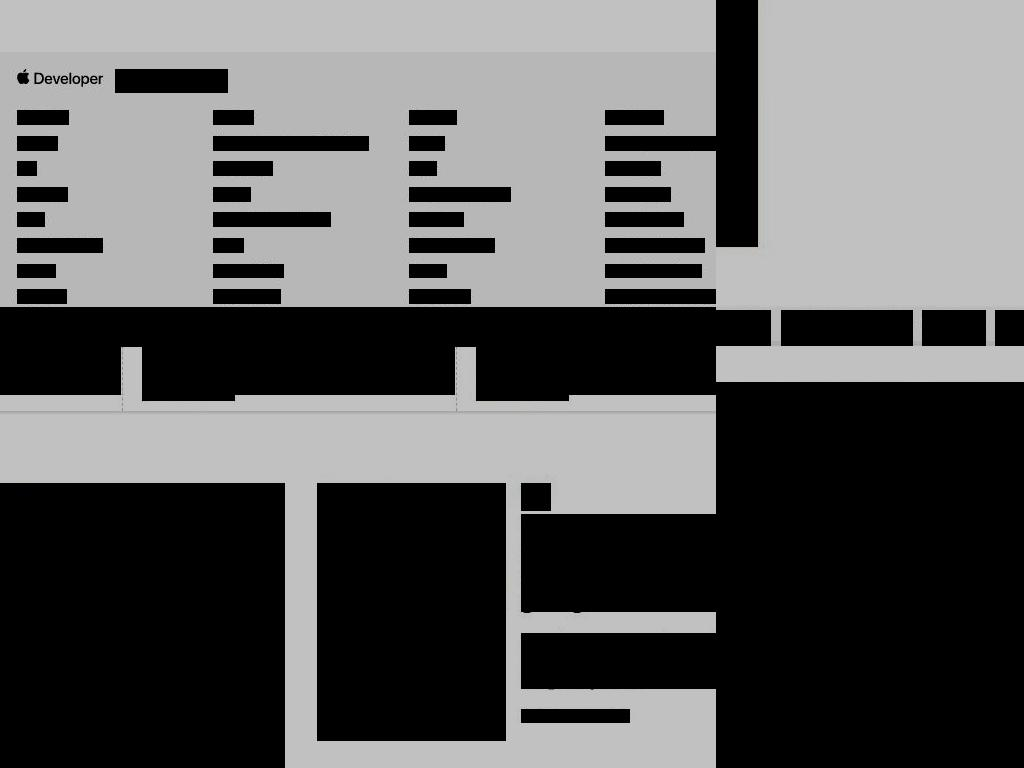button: (716, 382, 1024, 768), (0, 483, 285, 768), (317, 483, 506, 741), (123, 331, 457, 347), (781, 310, 913, 346), (457, 331, 716, 347), (922, 310, 986, 346), (716, 310, 771, 346), (0, 331, 123, 347), (995, 310, 1024, 346), (521, 483, 551, 511)
heading: (716, 711, 1024, 768), (605, 110, 664, 125), (17, 110, 69, 125), (409, 110, 457, 125), (213, 110, 254, 125)
image: (716, 382, 1024, 768), (0, 483, 285, 768), (317, 483, 506, 609), (142, 339, 235, 401), (476, 339, 569, 401)
link: (521, 514, 716, 612), (235, 331, 455, 395), (521, 633, 716, 689), (569, 331, 716, 395), (0, 331, 121, 395), (213, 136, 369, 151), (213, 212, 331, 227), (605, 136, 716, 151), (605, 289, 716, 304), (409, 187, 511, 202), (605, 238, 705, 253), (605, 264, 702, 278), (17, 238, 103, 253), (409, 238, 495, 253), (541, 709, 630, 723), (605, 212, 684, 227), (213, 289, 281, 304), (213, 264, 284, 278), (605, 187, 671, 202), (409, 289, 471, 304), (213, 161, 273, 176), (605, 161, 661, 176), (409, 212, 464, 227), (17, 187, 68, 202), (17, 289, 67, 304), (17, 136, 58, 151), (213, 187, 251, 202), (17, 264, 56, 278), (409, 136, 445, 151), (409, 264, 447, 278), (213, 238, 244, 253), (17, 212, 45, 227), (409, 161, 437, 176), (17, 161, 37, 176)
text: (115, 69, 228, 93), (781, 315, 844, 330), (850, 315, 912, 330), (721, 315, 771, 330), (995, 315, 1024, 330), (521, 709, 542, 723), (843, 315, 852, 330), (705, 307, 716, 316), (716, 315, 722, 330)
